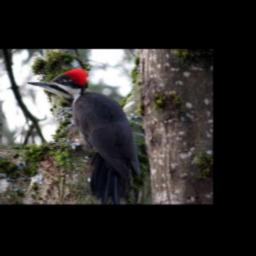Woodpecker: (25, 67, 147, 200)
